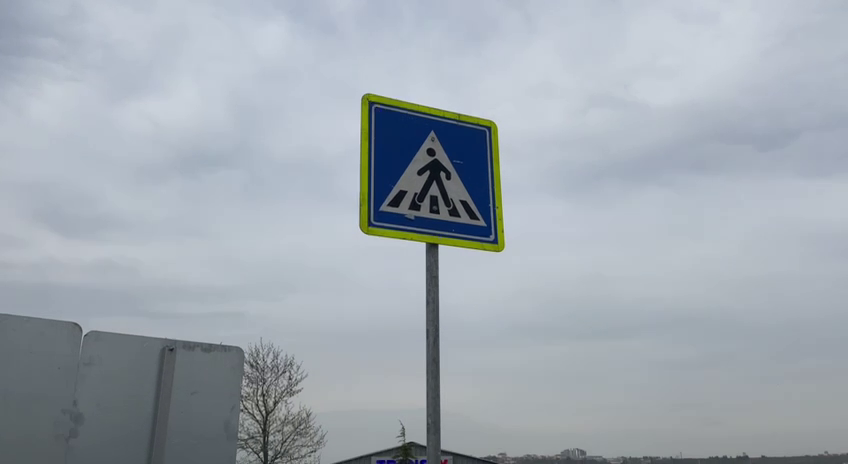pedestrianCrossing: (357, 91, 510, 257)
